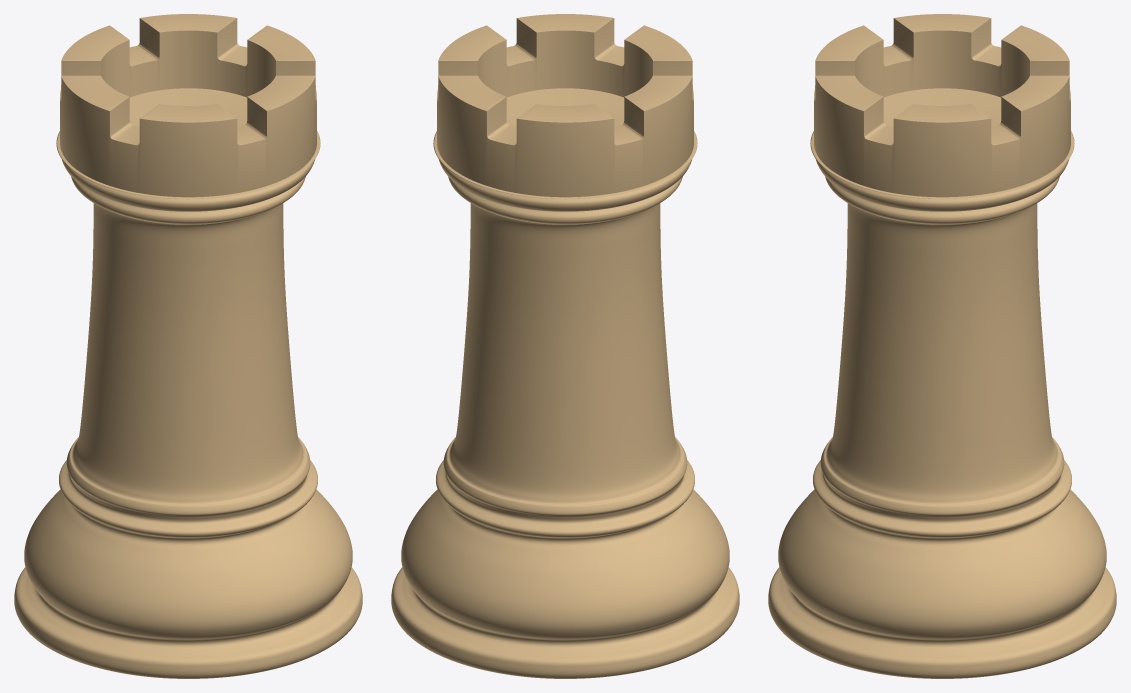
File: rook.glb
The picture shows the model from 3 angles, left to right: view 1: azimuth 30°, elevation 25°; view 2: azimuth 150°, elevation 25°; view 3: azimuth 270°, elevation 25°; orthographic projection.
Visible parts, largest first — view 1: Rook.002; view 2: Rook.002; view 3: Rook.002.
Part boxes in pixels (left/top/right/bottom): Rook.002: left=14, top=14, right=362, bottom=678; Rook.002: left=391, top=14, right=739, bottom=678; Rook.002: left=768, top=14, right=1116, bottom=678.
Bounding box in the file's own units: 0.0369 × 0.064 × 0.0369.
